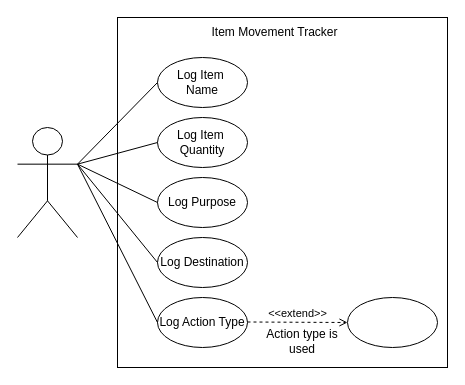
This 465x385 diagram has some shape labels left out. The shapes that lost their labels are listed below. From the top down, each one's box as (x1, y1, x2, y2) in pixels, then its label:
(16, 126, 78, 238): Users
(346, 296, 438, 348): Reduced Item Quantity
